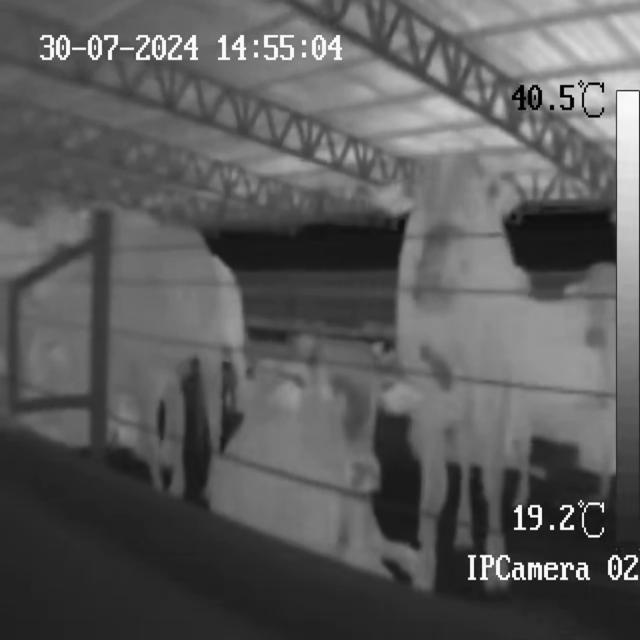eye: (318, 378, 332, 402)
head: (408, 150, 491, 308), (306, 336, 386, 492)
